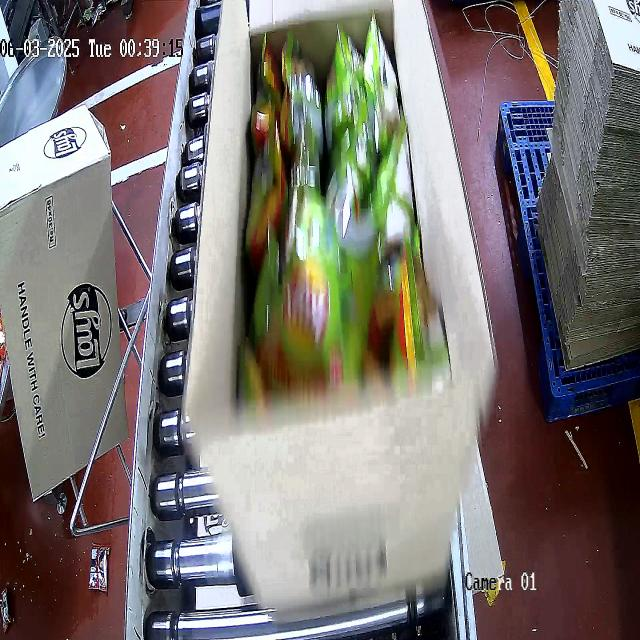YOGURT_HERB: (243, 34, 427, 411)
